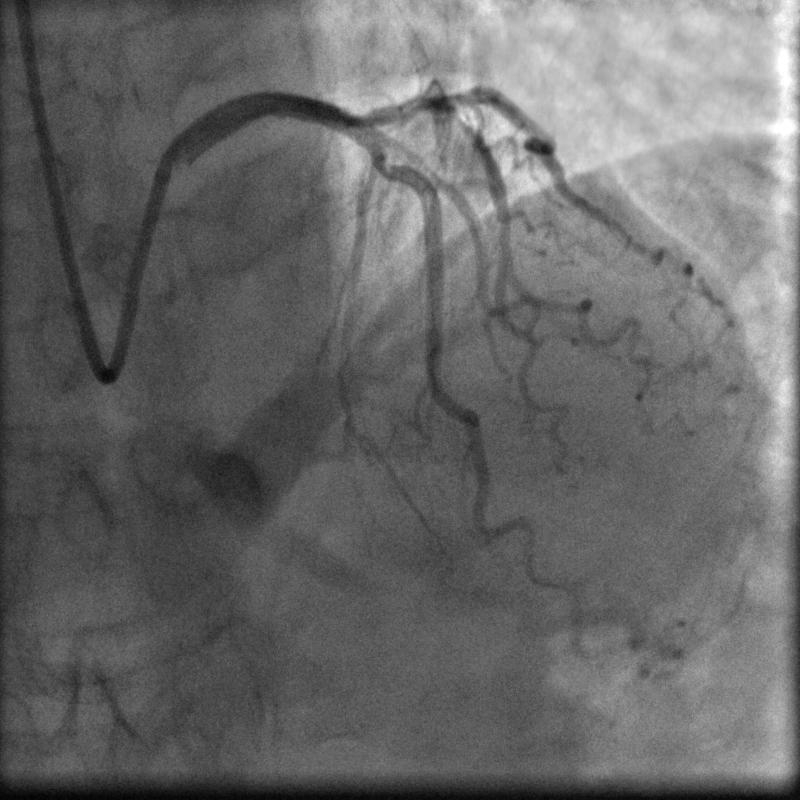Stenosis: (344, 92, 410, 127)
